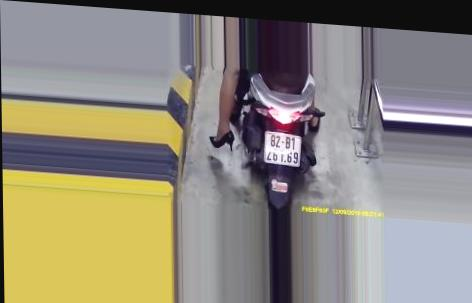License_Plate: (259, 127, 302, 169)
